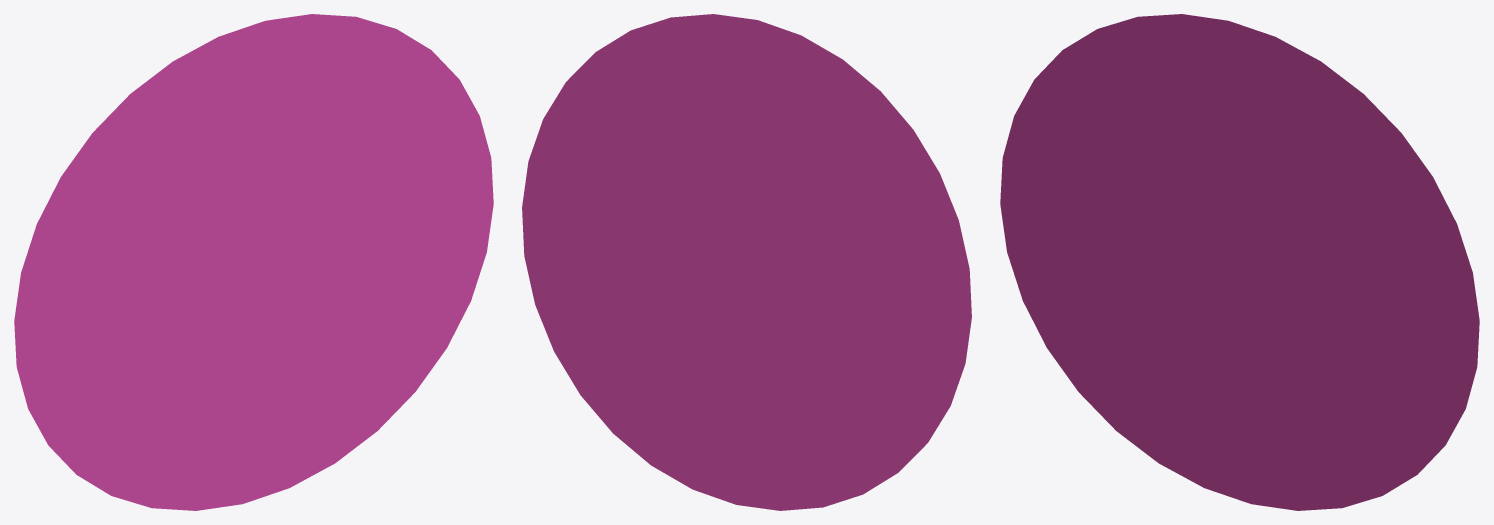
The model's file is IRL Beach Sun Disk.fbx.
3 renders of one model, left to right at view 1: azimuth 30°, elevation 25°; view 2: azimuth 150°, elevation 25°; view 3: azimuth 330°, elevation 25°, orthographic. The views are drawn at different scales.
Parts seen in each view (by area): view 1: Circle; view 2: Circle; view 3: Circle.
Part boxes in pixels (left/top/right/bottom): Circle: left=14, top=14, right=493, bottom=510; Circle: left=522, top=14, right=971, bottom=510; Circle: left=1000, top=14, right=1479, bottom=510.
Bounding box in the file's own units: 2537 × 2528 × 208.
